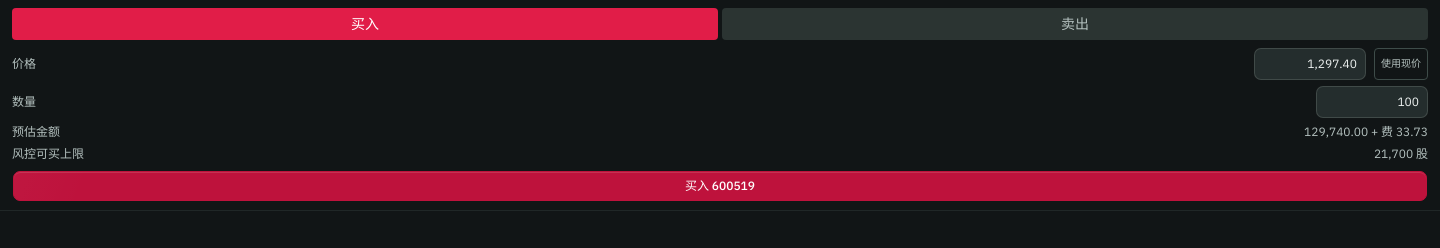
it: TradeForm › 买入非 100 整数倍时禁用提交
This screenshot has width=1440, height=248.
Expected: the text "风控可买上限" is shown, [12,146,84,162]
Expected: the button "买入 600519" is enabled, [12,170,1428,202]
Replace the text in the field labelled "数量" with "150" at {"x": 1372, "y": 102}, box [1316,86,1428,118]
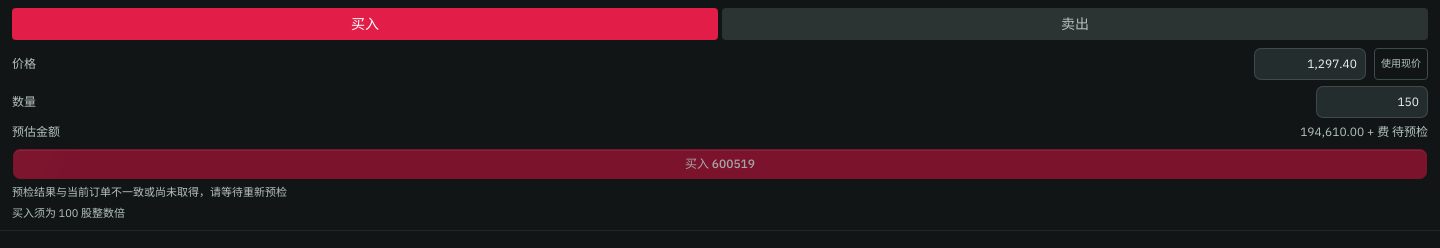
Expected: the button "买入 600519" is disabled, [12,148,1428,180]
